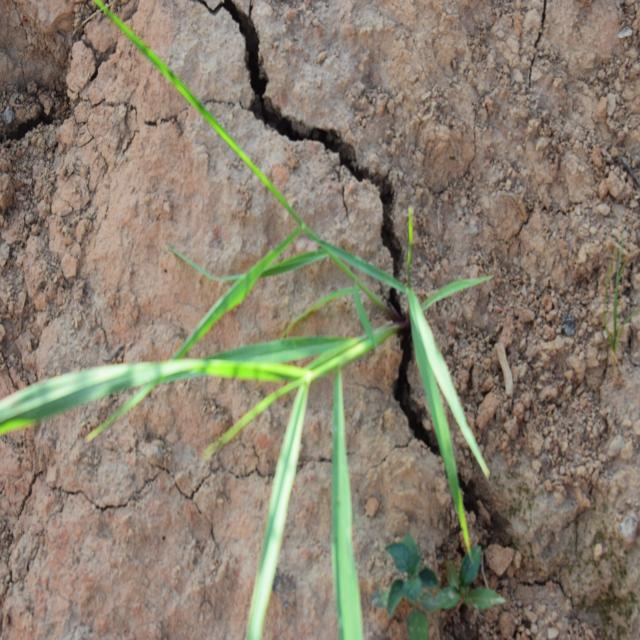green_foxtail: (62, 149, 492, 556)
